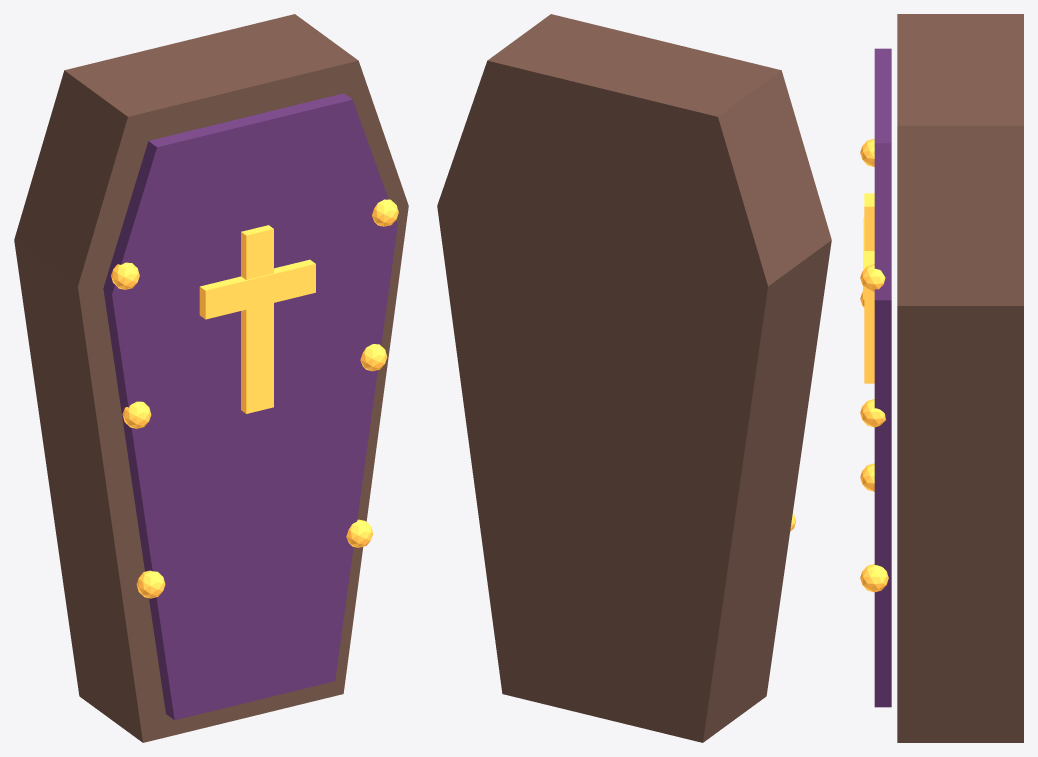
The model's file is coffin.glb.
3 renders of one model, left to right at view 1: azimuth 30°, elevation 25°; view 2: azimuth 150°, elevation 25°; view 3: azimuth 270°, elevation 25°, orthographic.
Parts seen in each view (by area): view 1: coffin; view 2: coffin; view 3: coffin.
Part boxes in pixels (x1,y1,x2,y2): coffin: (14,14,408,742); coffin: (437,14,831,742); coffin: (860,14,1023,742).
Size of the model in its own units: 0.66 by 1.2 by 0.285.
